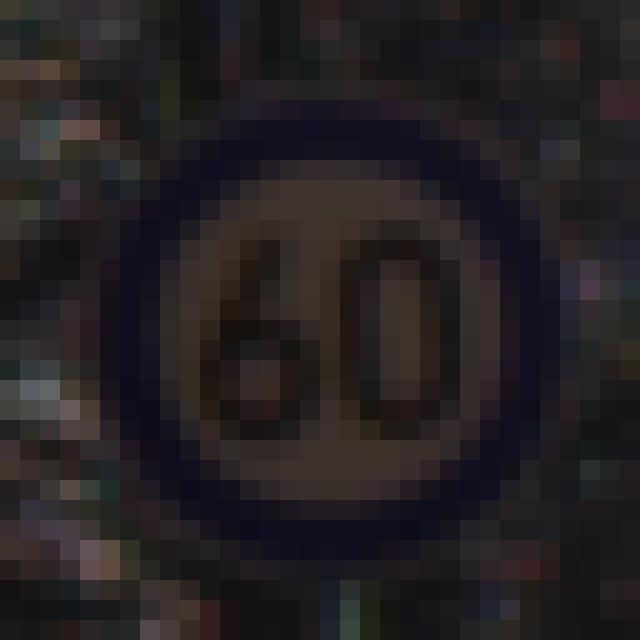SPEED-LIMIT-60: (76, 80, 587, 587)
